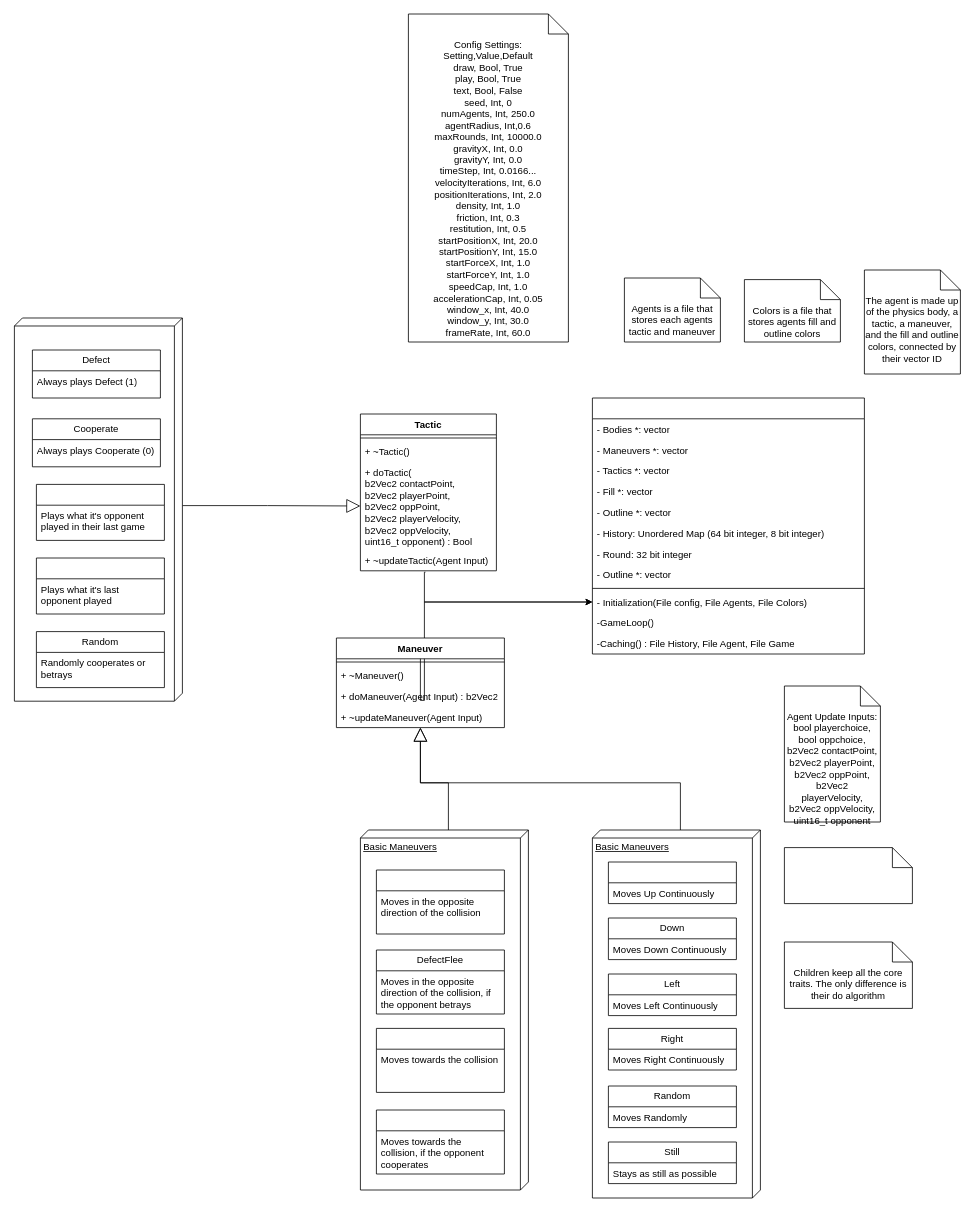
The diagram is 974 pixels wide and 1212 high, and some of its shapes have lost their labels. The box of each missing label's shape, as (x1, y1, x2, y2) in pixels:
Chase: (376, 1028, 504, 1092)
CooperateChase: (376, 1109, 504, 1174)
Flee: (376, 869, 504, 934)
Main: (592, 397, 864, 654)
Maneuvers and Tactics vary based on output: (784, 847, 912, 904)
NaiveTitForTat: (36, 557, 164, 614)
Tactics: (14, 317, 182, 701)
TitForTat: (36, 484, 164, 540)
Up: (608, 861, 736, 904)
